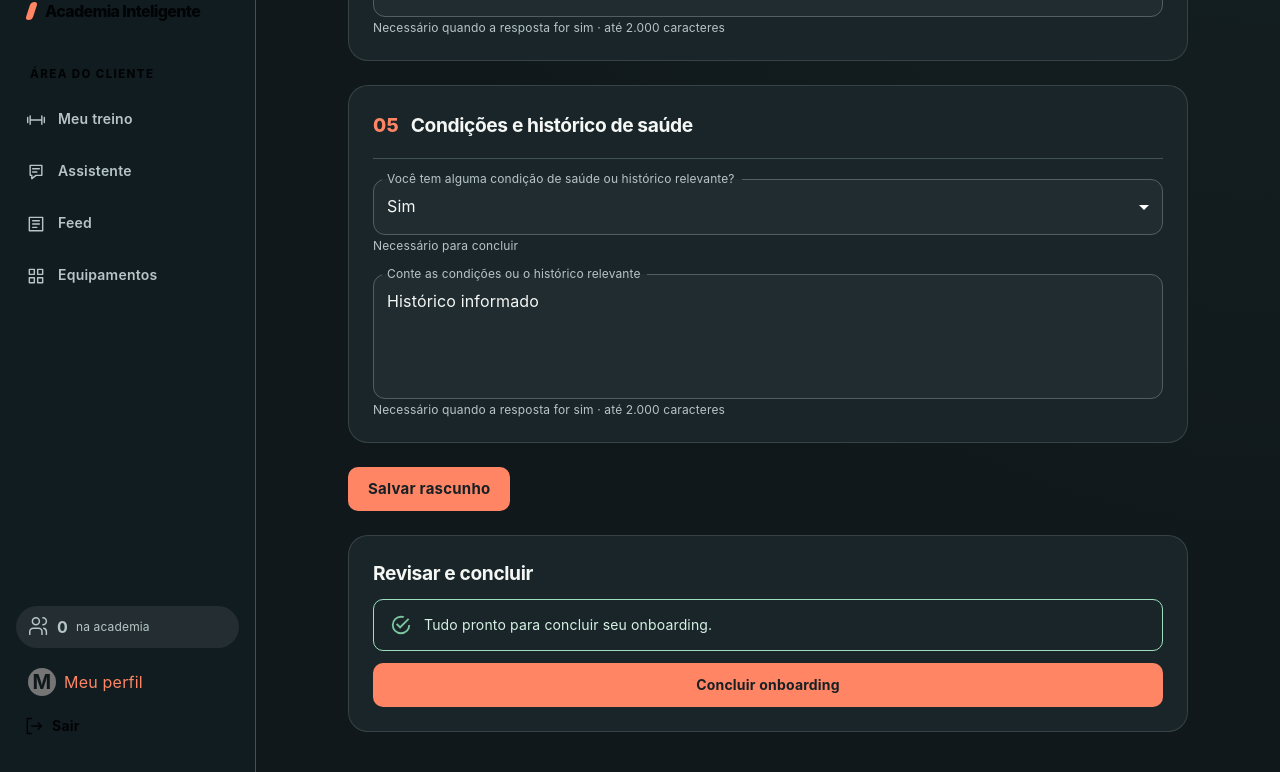
Test: prevents incomplete completion and displays the completed state after the explicit action
(page scrolled)
Click the button "Concluir onboarding". click: (768, 685)
box: 373,663 -> 1163,707
(page scrolled)
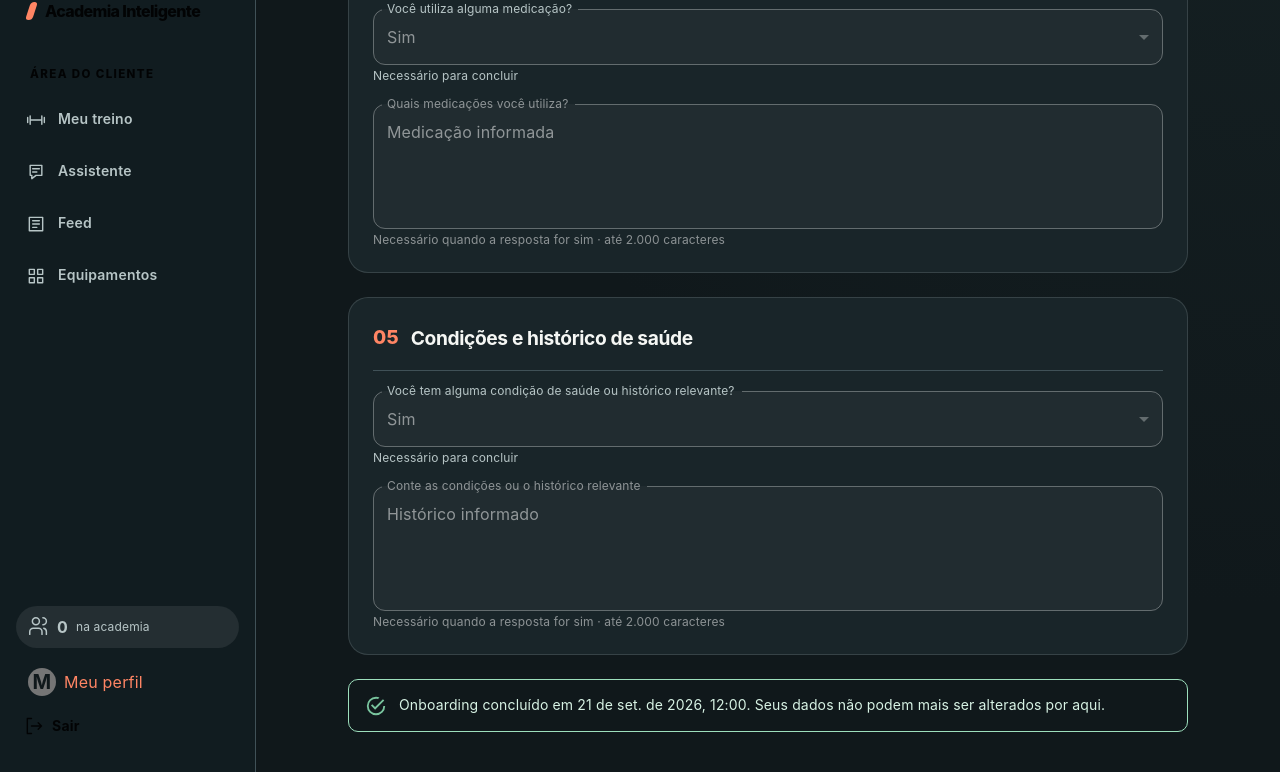
Expected: the text box labelled "Quais medicações você utiliza?" is disabled, 387,121 -> 1149,213
Expected: the text box labelled "Conte as condições ou o histórico relevante" is disabled, 387,503 -> 1149,595
